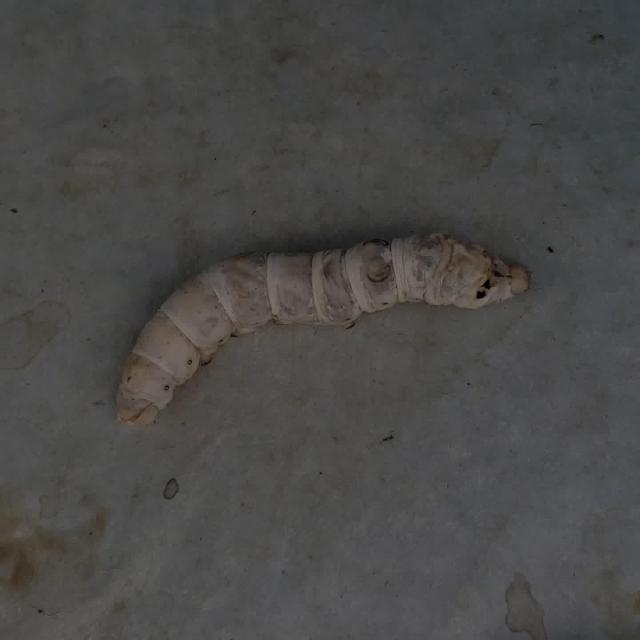Grasserie: (68, 192, 550, 464)
